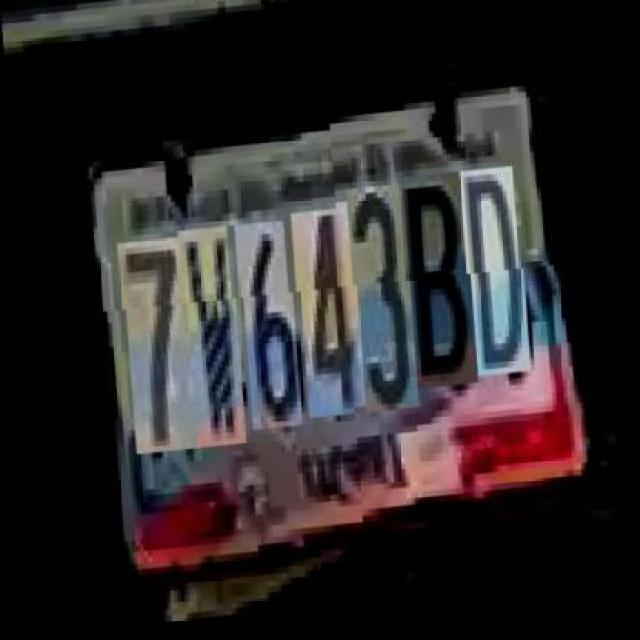3: (347, 198, 413, 425)
4: (290, 213, 359, 424)
6: (234, 226, 295, 434)
7: (117, 239, 191, 456)
b: (398, 187, 472, 404)
d: (460, 182, 525, 393)
w: (176, 230, 239, 452)
